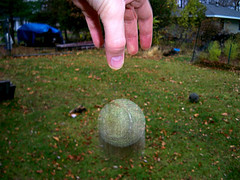tennis ball: (97, 98, 148, 151)
